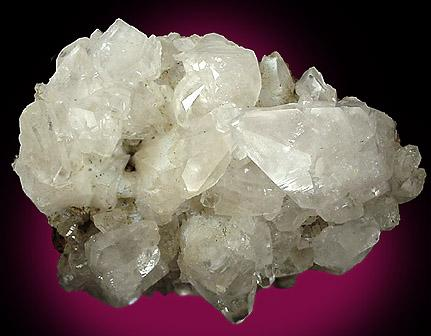calcite: (14, 19, 427, 322)
